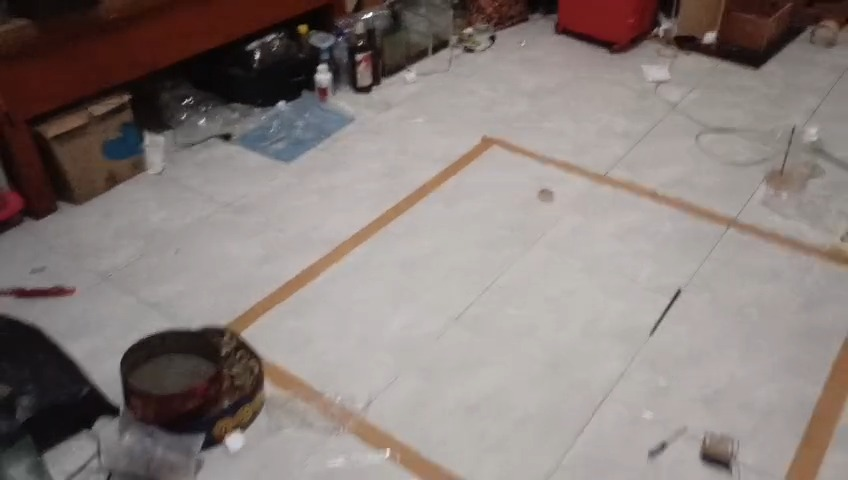floor marking: (229, 136, 847, 332), (266, 363, 458, 478), (785, 337, 847, 479)
